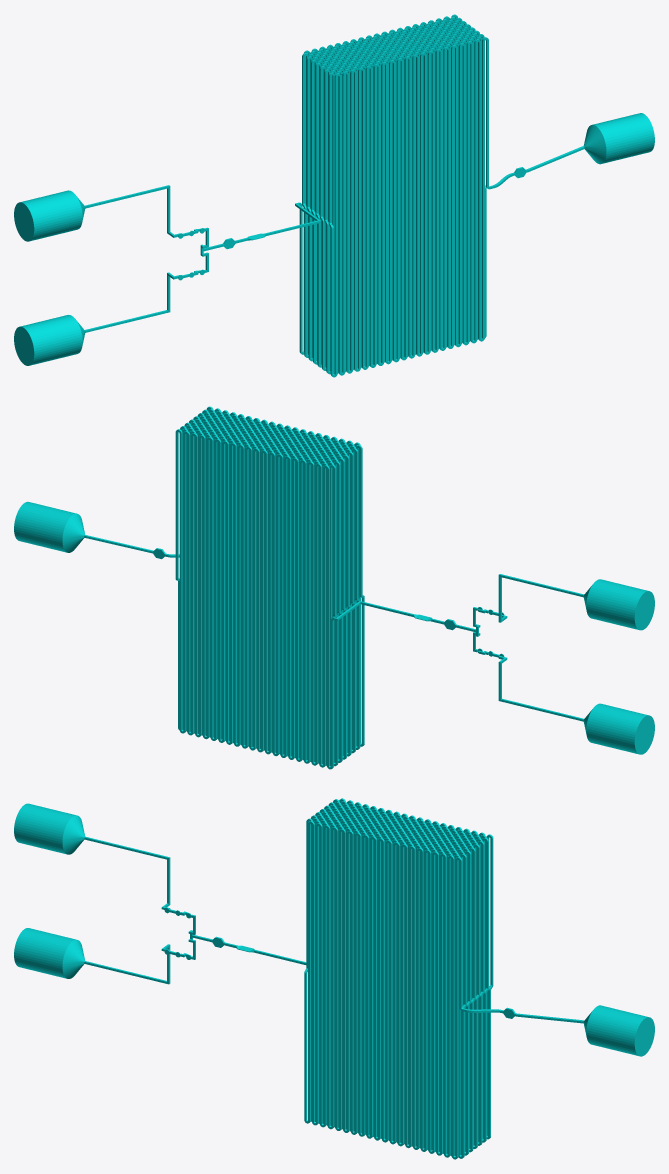
Rendered from void_fluidic.glb.
3 renders of one model, top to bottom at view 1: azimuth 30°, elevation 25°; view 2: azimuth 150°, elevation 25°; view 3: azimuth 330°, elevation 25°, orthographic.
Visible parts, largest first — view 1: world; view 2: world; view 3: world.
Part boxes in pixels (x1,y1,x2,y2): world: [14, 14, 654, 377]; world: [14, 406, 654, 769]; world: [14, 798, 654, 1159].
Bounding box in the file's own units: 19.46 × 9.06 × 1.74.
